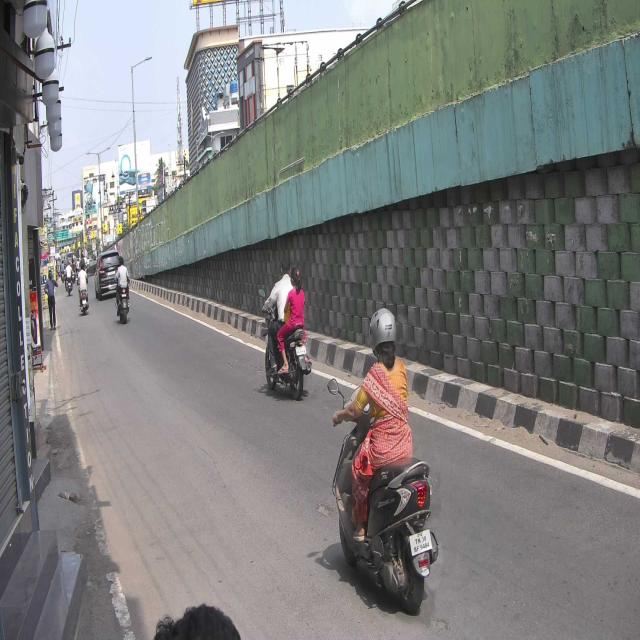double_rider: (259, 256, 312, 399)
single_rider: (329, 307, 438, 618)
